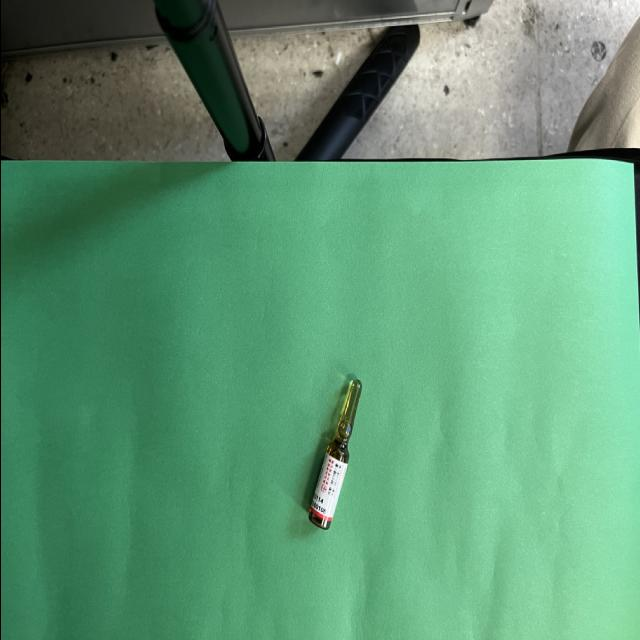Ampoules: (307, 379, 362, 529)
